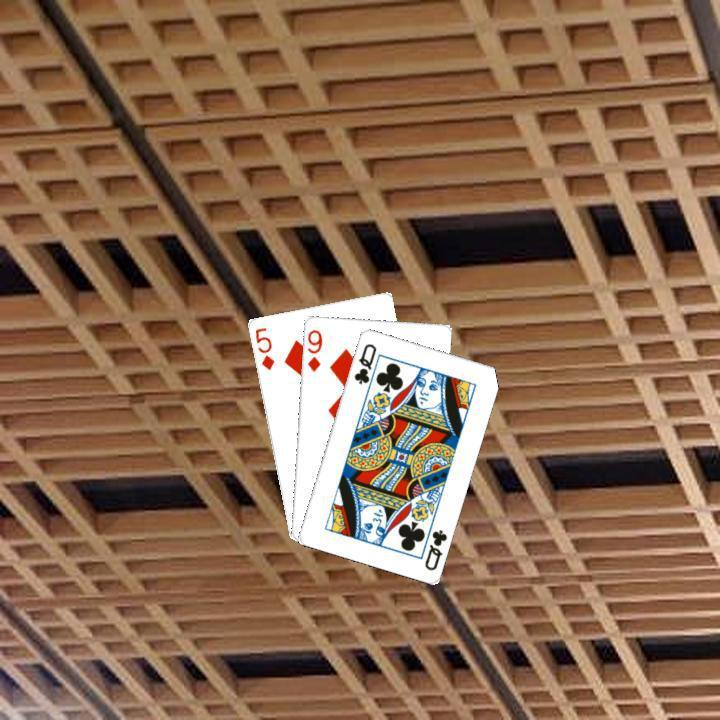5: (250, 323, 276, 372)
9: (303, 325, 324, 373)
Q: (349, 339, 378, 386), (420, 525, 449, 572)
